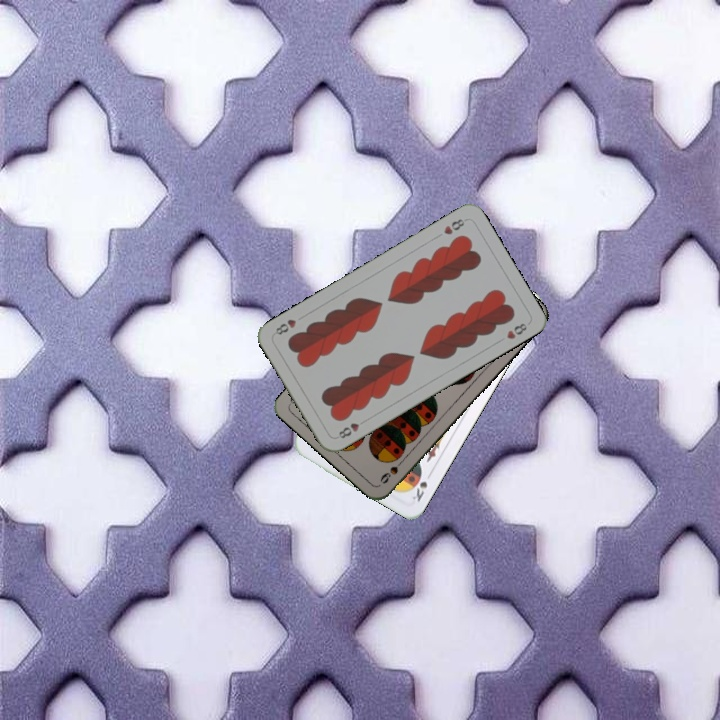H8: (439, 215, 469, 237), (335, 419, 362, 441)
S9: (376, 454, 408, 487)
SK: (408, 468, 435, 505)
